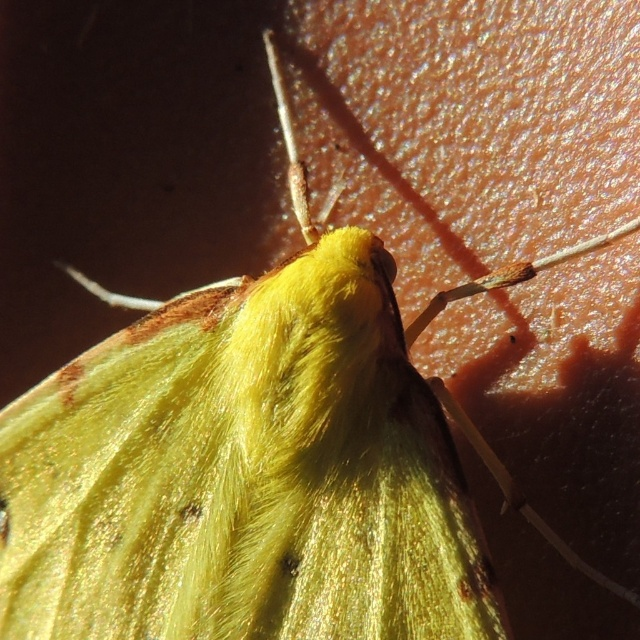Moths and butterflies: (0, 30, 639, 639)
